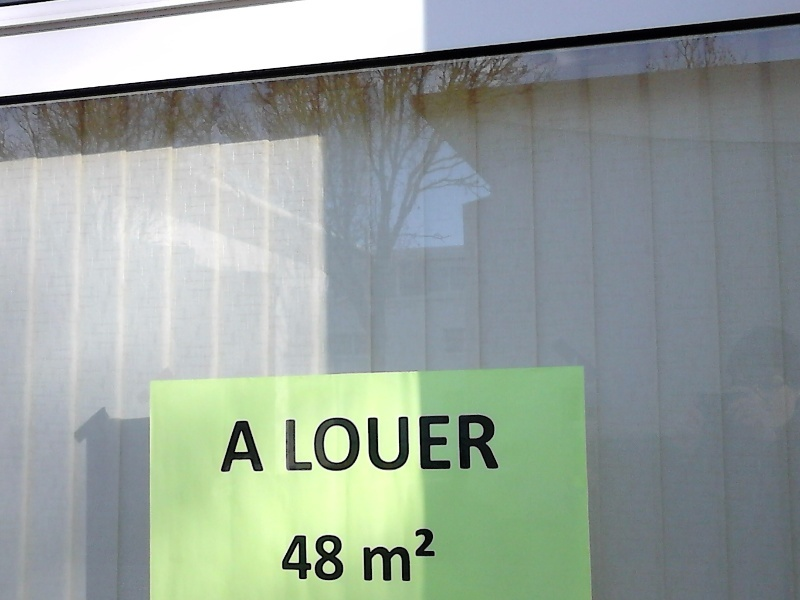text: (289, 414, 304, 473), (305, 414, 320, 473), (321, 414, 336, 473), (337, 414, 352, 473), (353, 414, 368, 473), (369, 414, 384, 473), (385, 414, 400, 473), (401, 414, 416, 473), (417, 414, 432, 473), (433, 414, 448, 473), (449, 414, 464, 473), (465, 414, 480, 473), (481, 414, 496, 473), (225, 418, 240, 473), (241, 418, 256, 473), (369, 528, 384, 582), (385, 528, 400, 582), (401, 528, 416, 582), (417, 528, 432, 582), (289, 534, 304, 581), (305, 534, 320, 581), (321, 534, 336, 581), (359, 528, 368, 582), (257, 418, 265, 473), (433, 528, 441, 582), (279, 534, 288, 581), (337, 534, 345, 581), (284, 414, 288, 473), (497, 414, 500, 473), (222, 418, 224, 473)
